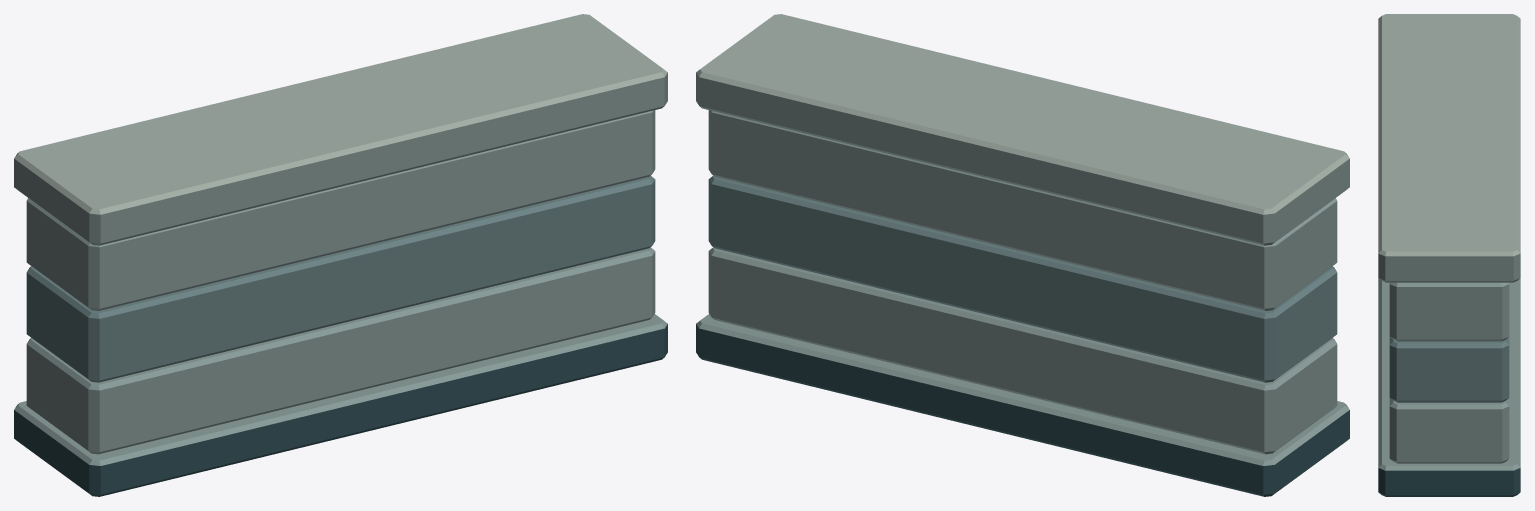
File: wall-straight.glb
3 renders of one model, left to right at view 1: azimuth 30°, elevation 25°; view 2: azimuth 150°, elevation 25°; view 3: azimuth 270°, elevation 25°, orthographic. The views are drawn at different scales.
Visible parts, largest first — view 1: wall-straight__body; view 2: wall-straight__body; view 3: wall-straight__body.
Boxes of the visible parts, box(x1,y1,x2,y2) form: wall-straight__body: box(14, 14, 667, 496); wall-straight__body: box(696, 14, 1349, 496); wall-straight__body: box(1378, 14, 1520, 496).
Bounding box in the file's own units: 2 × 0.95 × 0.5.
